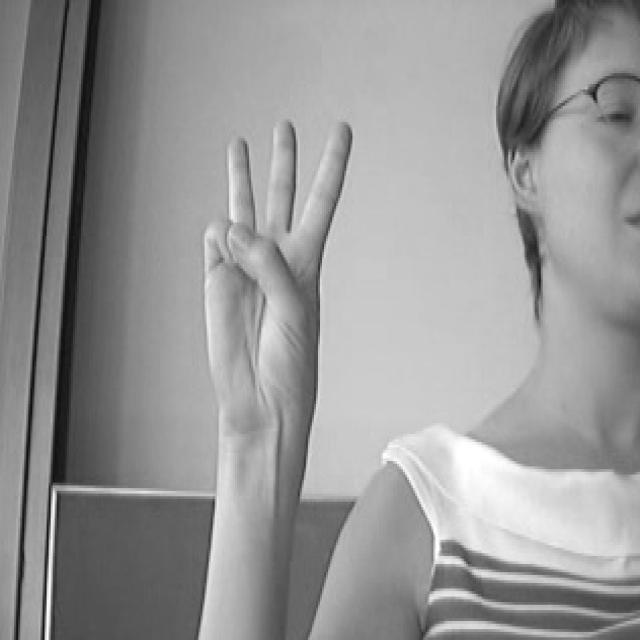W: (187, 83, 365, 443)
